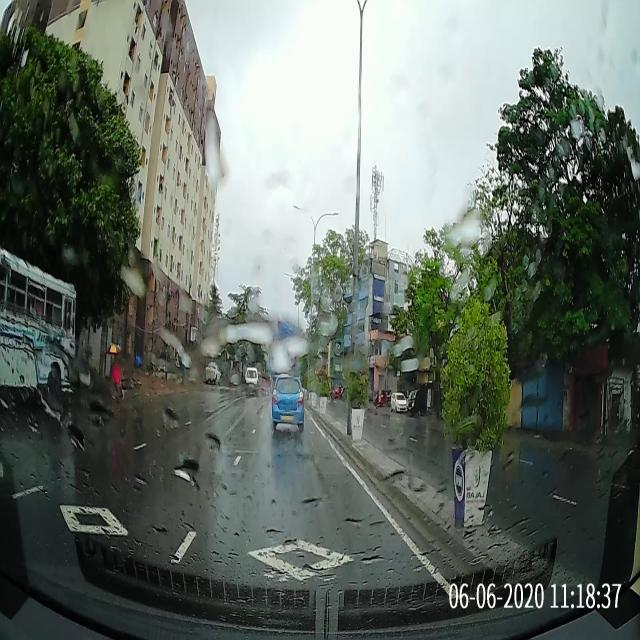diamond: (162, 521, 451, 590)
